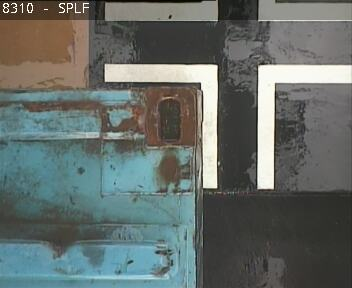groundmarker_1: (104, 63, 350, 188)
